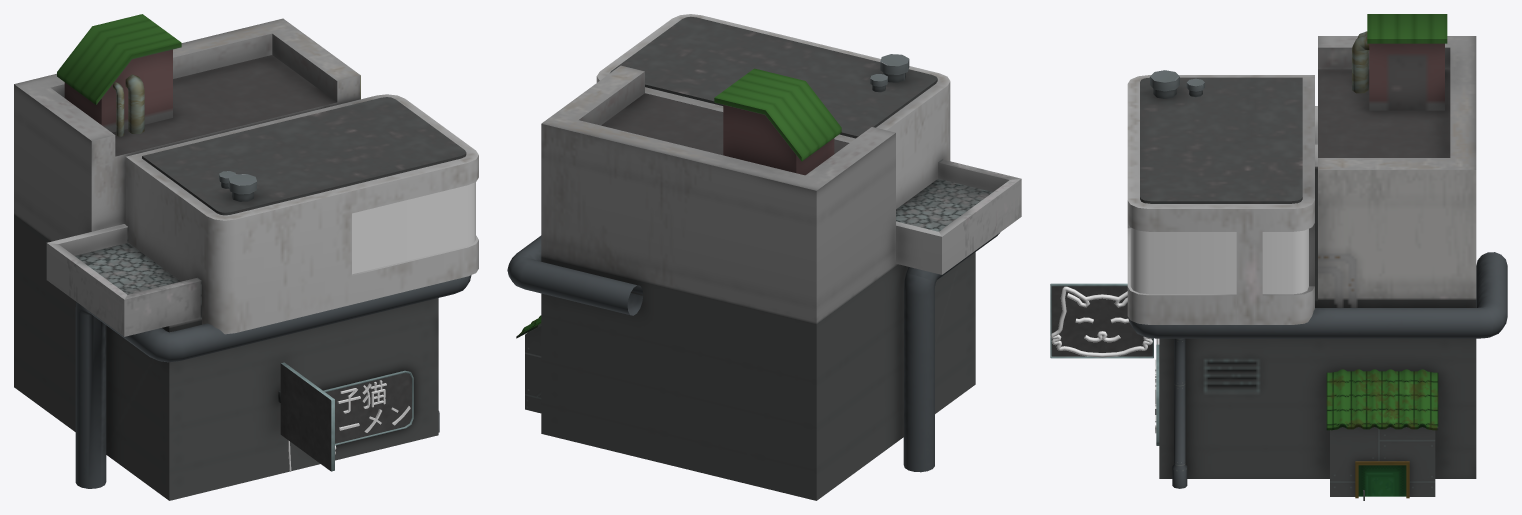
File: Builindg_KonekoRamen.fbx
3 views of the same model, side by side, from view 1: azimuth 30°, elevation 25°; view 2: azimuth 150°, elevation 25°; view 3: azimuth 270°, elevation 25° (orthographic). The views are drawn at different scales.
Visible parts, largest first — view 1: Building_3, Building_3.001, Pipe, Windows, CatSign, Koneko Ramen, Building_3.003, Koneko Ramen.001, Cylinder.001; view 2: Building_3, Building_3.001, Pipe, Cylinder.001; view 3: Building_3, Building_3.001, Pipe, Windows, CatSign, Cylinder.001, CatSign.001, Building_3.003.
Part boxes in pixels (x1,y1,x2,y2): Building_3: (14, 14, 438, 500); Building_3.001: (125, 94, 478, 334); Pipe: (75, 275, 471, 488); Windows: (352, 182, 475, 274); CatSign: (278, 362, 334, 471); Koneko Ramen: (323, 370, 413, 445); Building_3.003: (125, 74, 144, 133); Koneko Ramen.001: (337, 380, 410, 432); Cylinder.001: (219, 171, 439, 432); Building_3: (516, 65, 1021, 500); Building_3.001: (596, 14, 950, 208); Pipe: (507, 233, 999, 472); Cylinder.001: (870, 54, 909, 92); Building_3: (1159, 14, 1476, 500); Building_3.001: (1127, 75, 1314, 324); Pipe: (1129, 252, 1507, 338); Windows: (1130, 227, 1308, 294); CatSign: (1050, 283, 1153, 358); Cylinder.001: (1150, 70, 1204, 488); CatSign.001: (1050, 286, 1152, 357); Building_3.003: (1352, 35, 1369, 93).
Bounding box in the file's own units: 1329 × 1361 × 1443.
